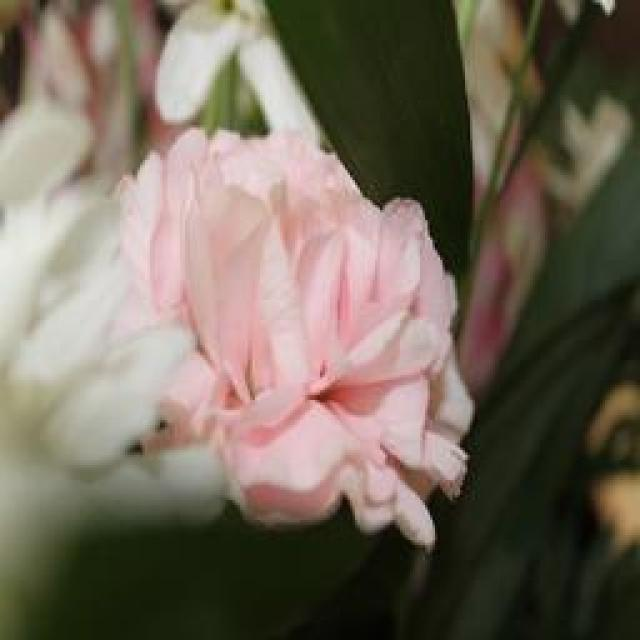carnation: (102, 114, 494, 538)
